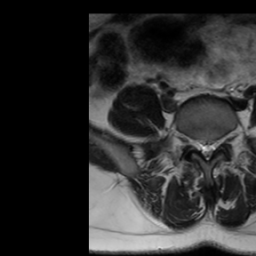CCS_normal: (203, 131, 210, 168)
LFS_normal: (217, 128, 225, 153)
LLS_normal: (210, 131, 217, 160)
RFS_normal: (188, 129, 196, 156)
RLS_normal: (196, 131, 203, 162)
